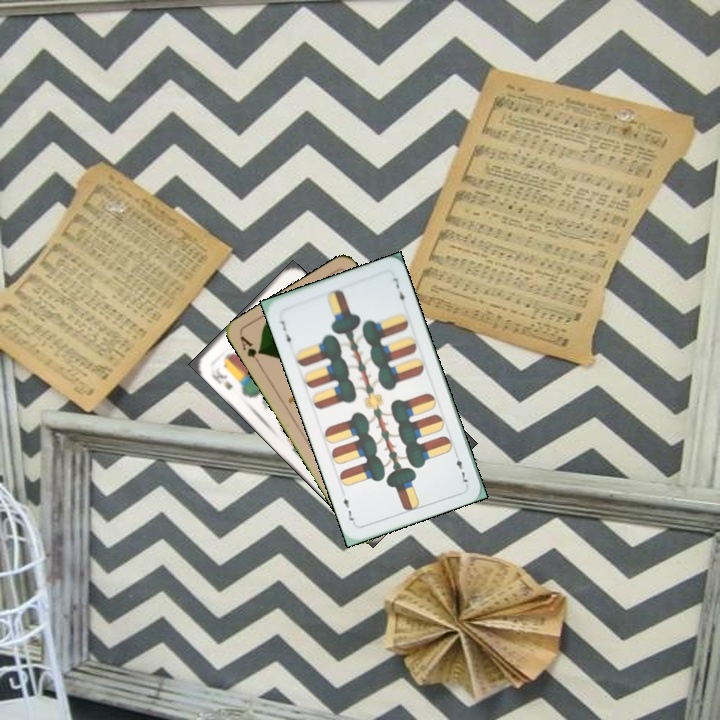E7: (451, 448, 471, 487), (276, 316, 294, 350)
EK: (206, 363, 235, 392)
GA: (236, 332, 264, 369)
